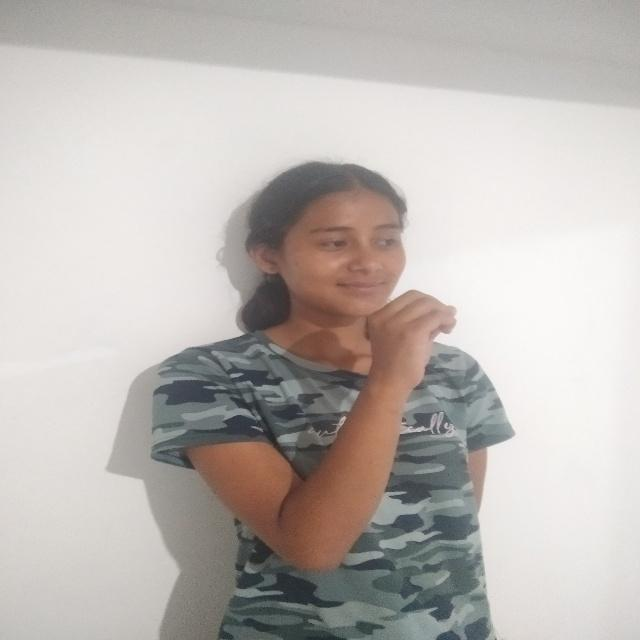Fist Mouth: (240, 147, 472, 389)
